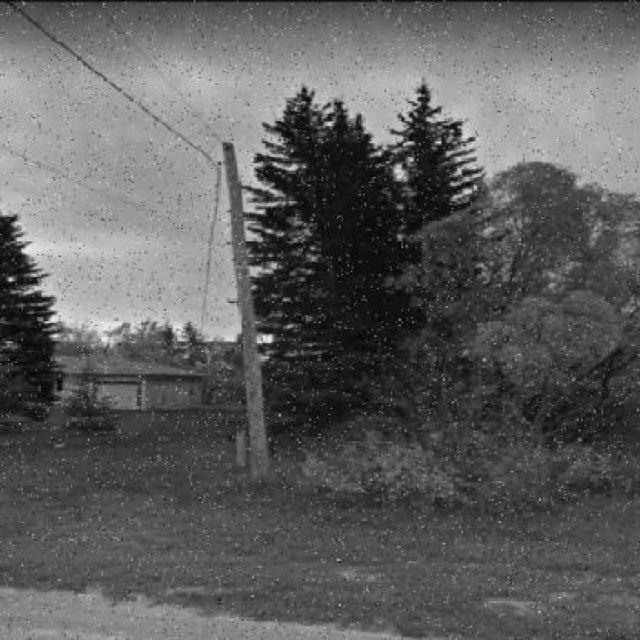pole: (134, 82, 314, 496)
